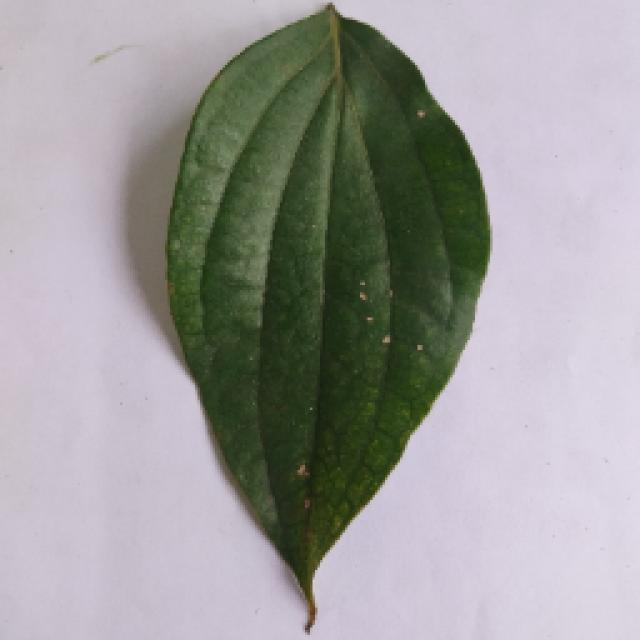pollu-disease: (160, 7, 492, 625)
